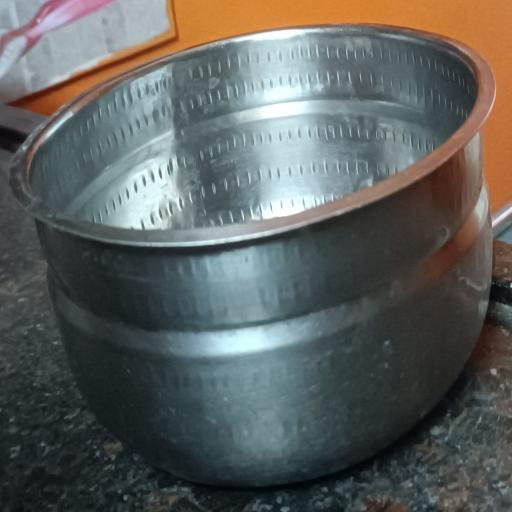vessel: (11, 26, 494, 485)
